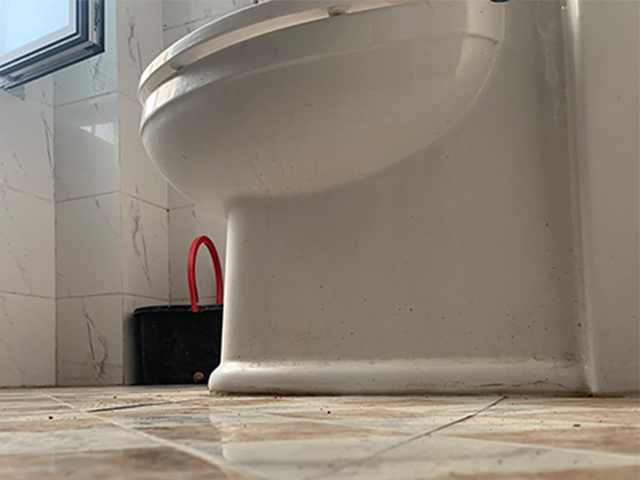closestool: (135, 1, 640, 400)
